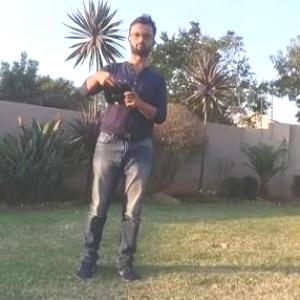follow: (69, 6, 172, 288)
